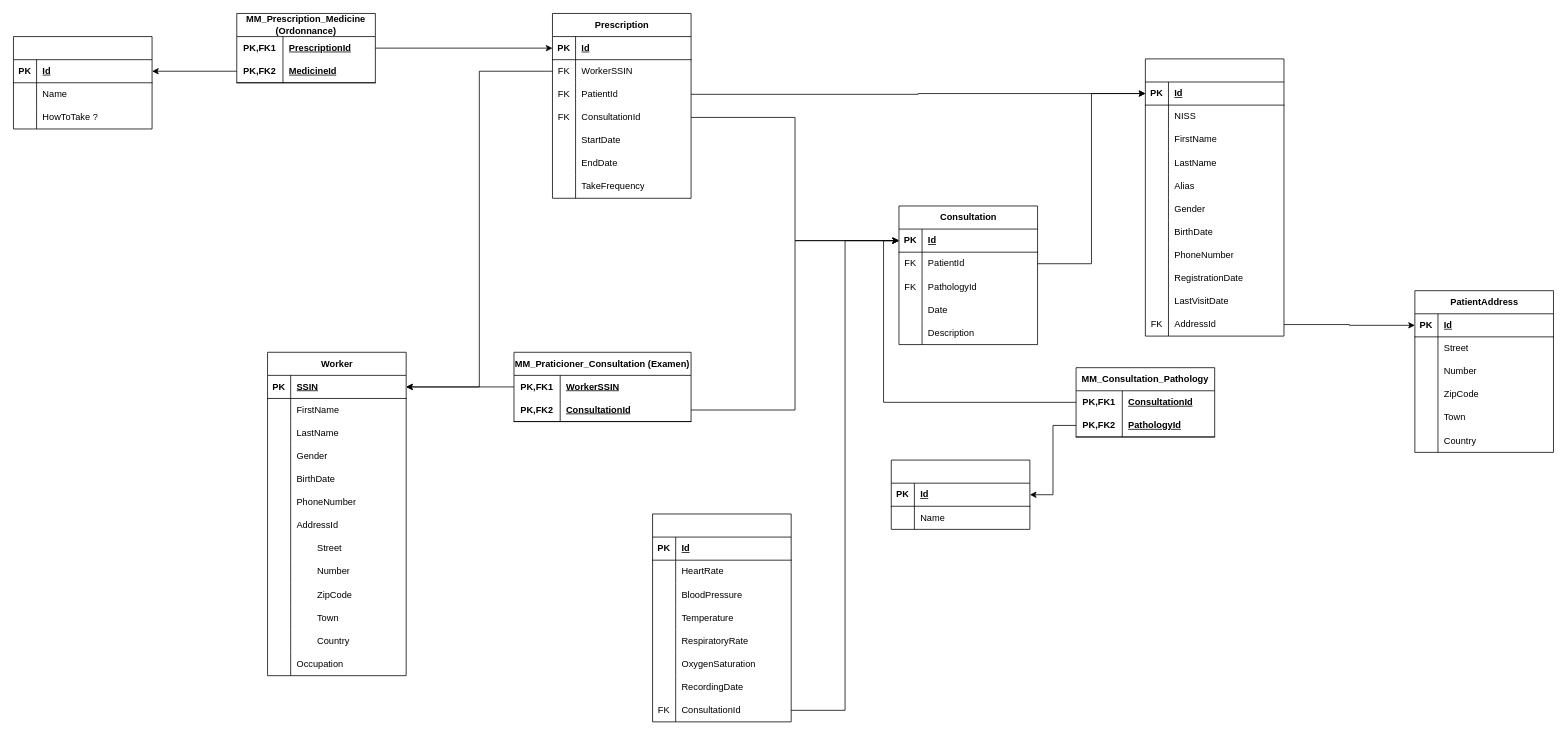
This 1567x735 diagram has some shape labels left out. Here are the shapes that lost their labels. From the top down, the box of each, then its label:
(13, 36, 152, 129): Medicine
(1145, 58, 1284, 336): Patient
(891, 459, 1030, 529): Pathology
(652, 513, 791, 722): VitalSignsMonitoring
